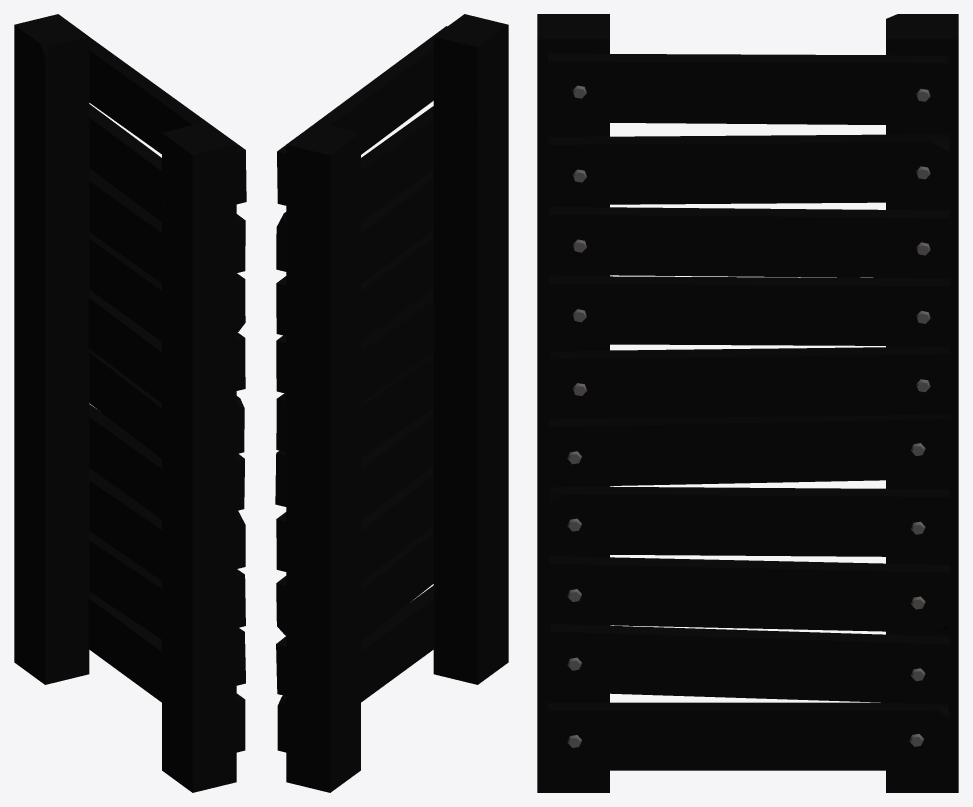
3 views of the same model, side by side, from view 1: azimuth 30°, elevation 25°; view 2: azimuth 150°, elevation 25°; view 3: azimuth 270°, elevation 25° (orthographic). The views are drawn at different scales.
Parts seen in each view (by area): view 1: body0_model0_lod0_mesh0; view 2: body0_model0_lod0_mesh0; view 3: body0_model0_lod0_mesh0.
Boxes of the visible parts, bbox=[...] form: body0_model0_lod0_mesh0: bbox=[14, 14, 246, 792]; body0_model0_lod0_mesh0: bbox=[275, 14, 508, 792]; body0_model0_lod0_mesh0: bbox=[537, 14, 958, 792].
Bounding box in the file's own units: 12.55 × 126 × 64.03.
1 material, 1 textured.
